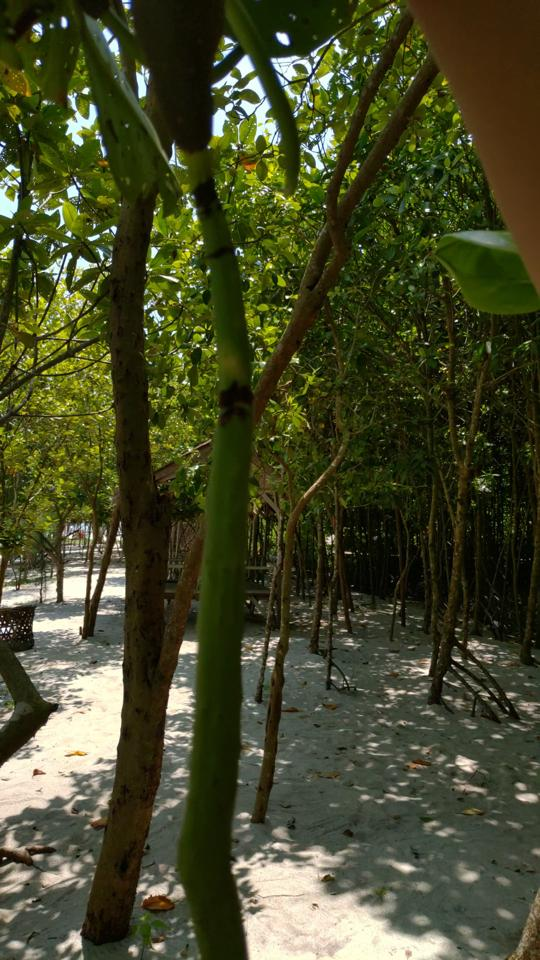setengah matang: (116, 1, 272, 958)
